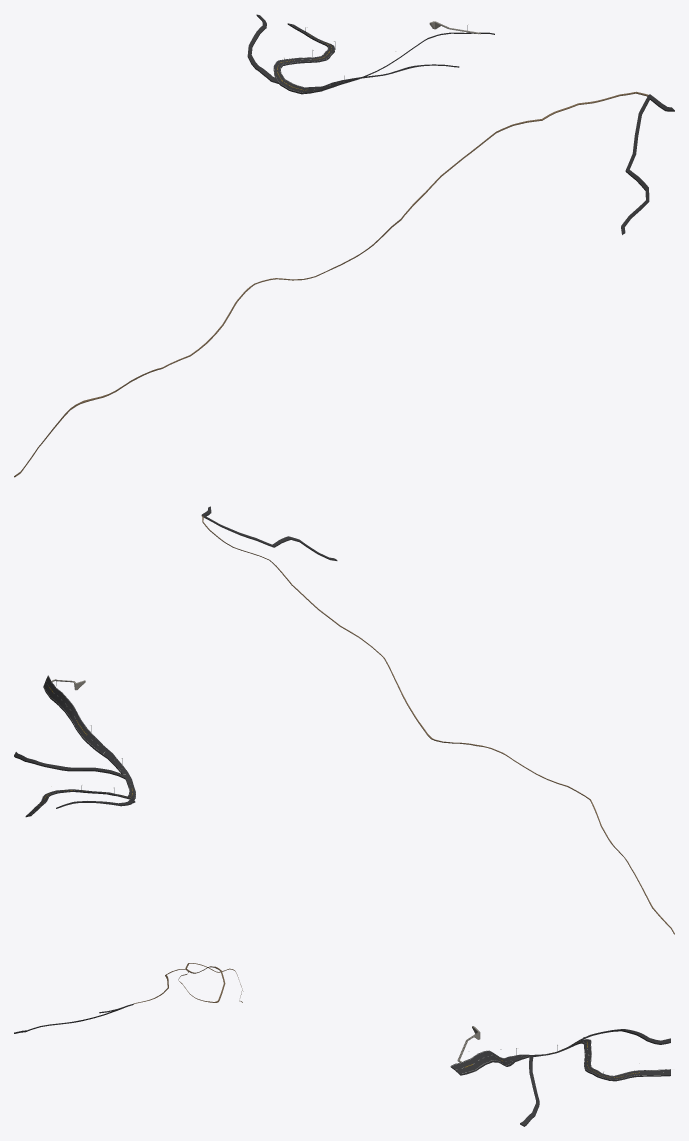
The picture shows the model from 3 angles, top to bottom: view 1: azimuth 30°, elevation 25°; view 2: azimuth 150°, elevation 25°; view 3: azimuth 270°, elevation 25°; orthographic projection. The views are drawn at different scales.
Bounding box in the file's own units: 588 × 270 × 587.
